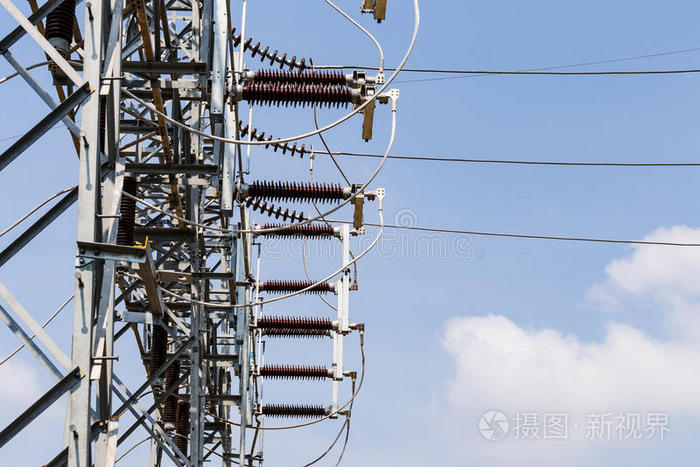insulator: (229, 28, 306, 71), (238, 120, 311, 158), (247, 198, 310, 225)
